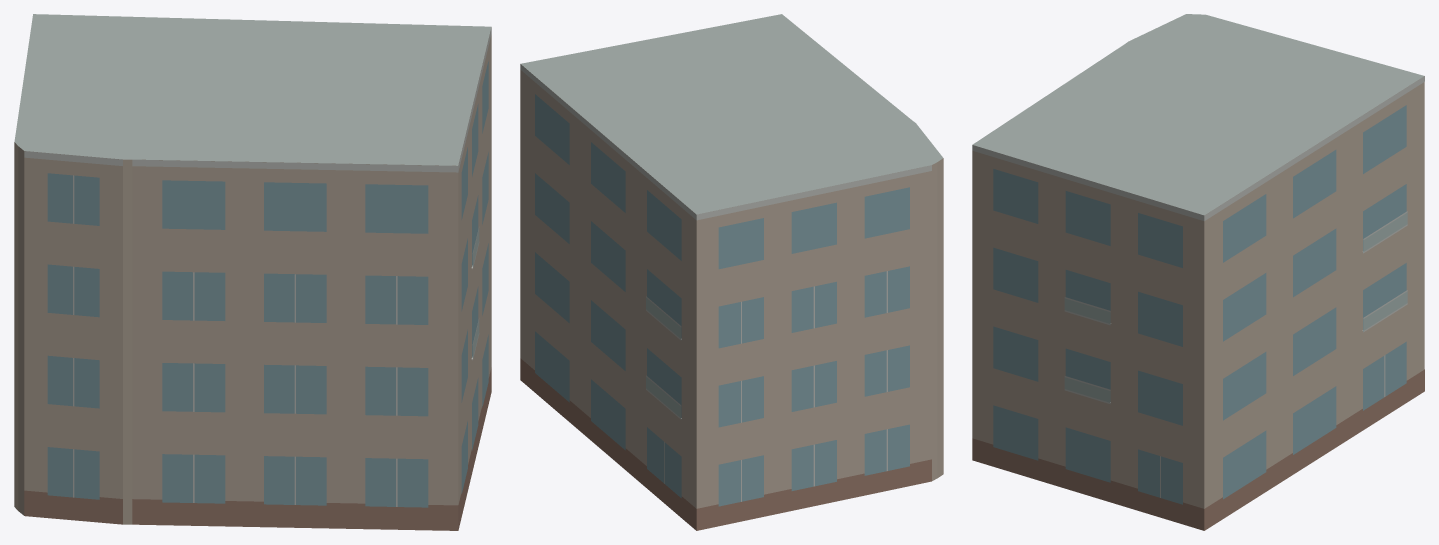
Rendered from survey-upis-32780078.glb.
3 renders of one model, left to right at view 1: azimuth 30°, elevation 25°; view 2: azimuth 150°, elevation 25°; view 3: azimuth 270°, elevation 25°, orthographic. The views are drawn at different scales.
Visible parts, largest first — view 1: survey-upis-32780078.tmp; view 2: survey-upis-32780078.tmp; view 3: survey-upis-32780078.tmp.
Boxes of the visible parts, x1,y1,x2,y2 form: survey-upis-32780078.tmp: (14, 14, 491, 530); survey-upis-32780078.tmp: (520, 14, 943, 530); survey-upis-32780078.tmp: (972, 14, 1424, 530).
Bounding box in the file's own units: 18.23 × 13.3 × 17.3.
